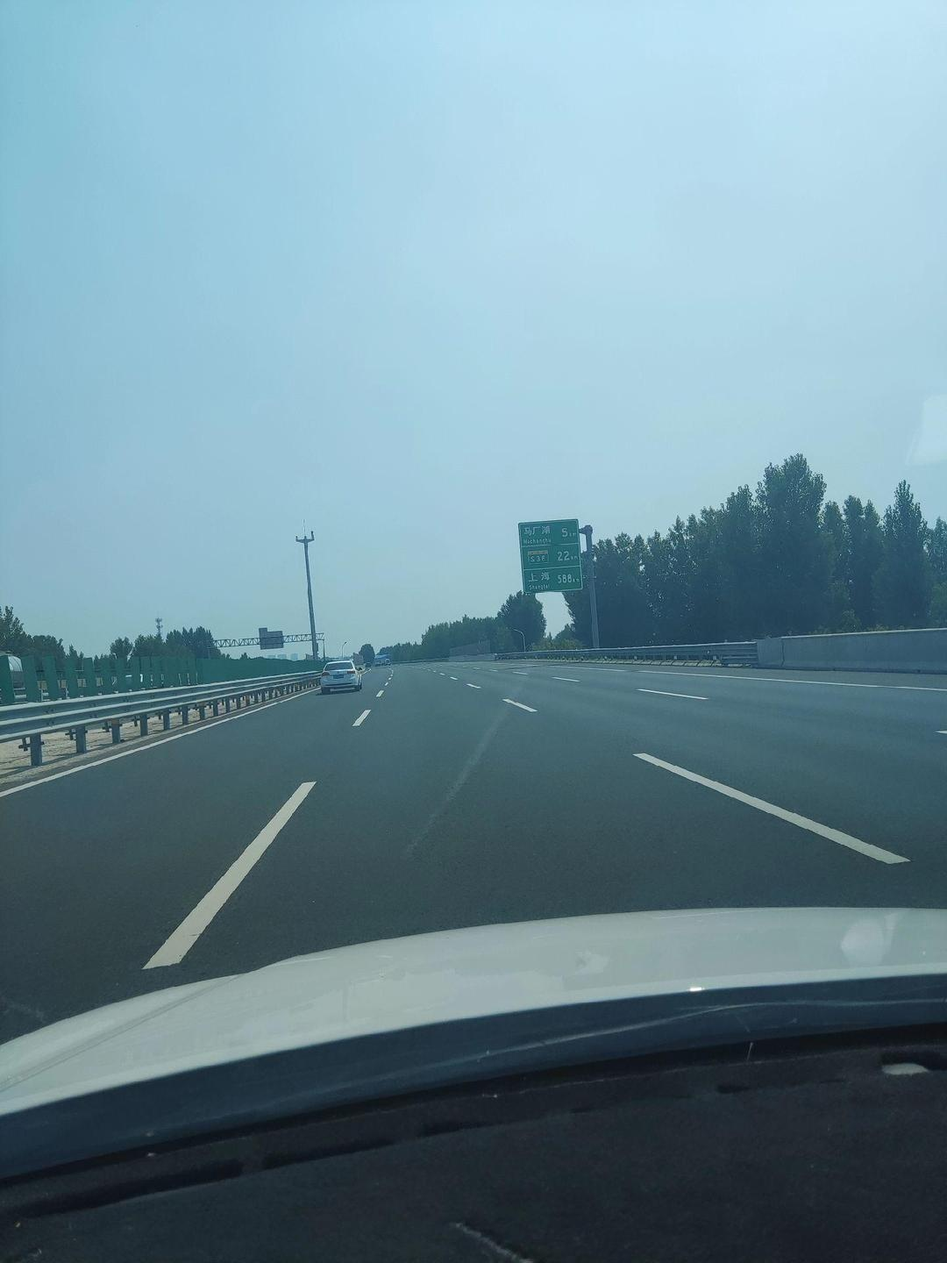lane: (629, 744, 906, 867), (143, 767, 314, 965), (640, 688, 726, 712), (435, 664, 490, 690), (494, 692, 540, 717), (350, 703, 379, 732), (381, 666, 403, 697), (550, 674, 588, 688)
